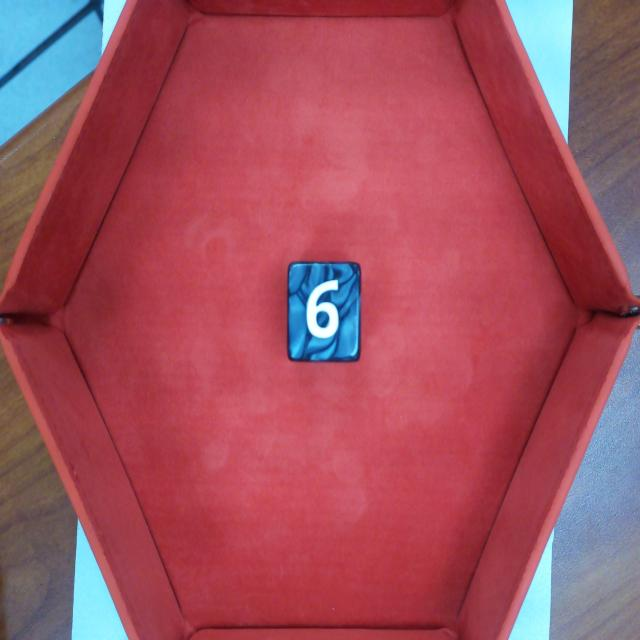dice: (291, 268, 361, 357)
